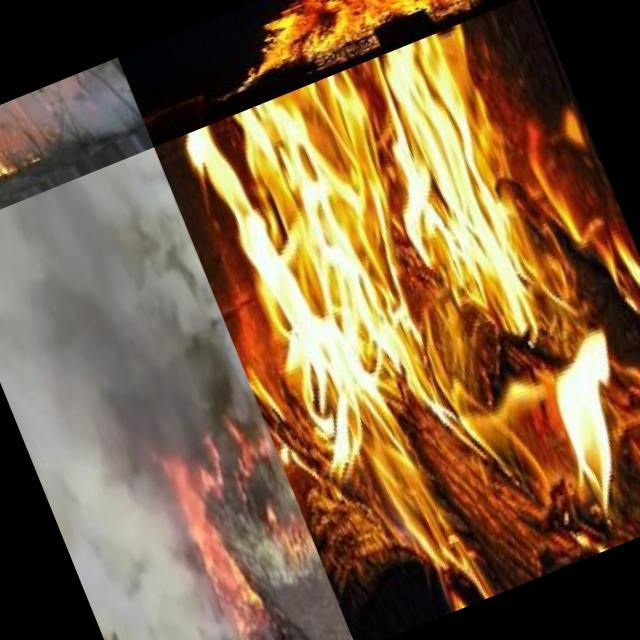fire: (168, 0, 640, 640), (146, 429, 268, 629), (212, 0, 486, 88), (208, 426, 294, 523), (258, 499, 324, 581), (0, 104, 27, 211)
smoke: (0, 191, 232, 640), (53, 148, 270, 486), (0, 62, 130, 167), (144, 580, 306, 640)
